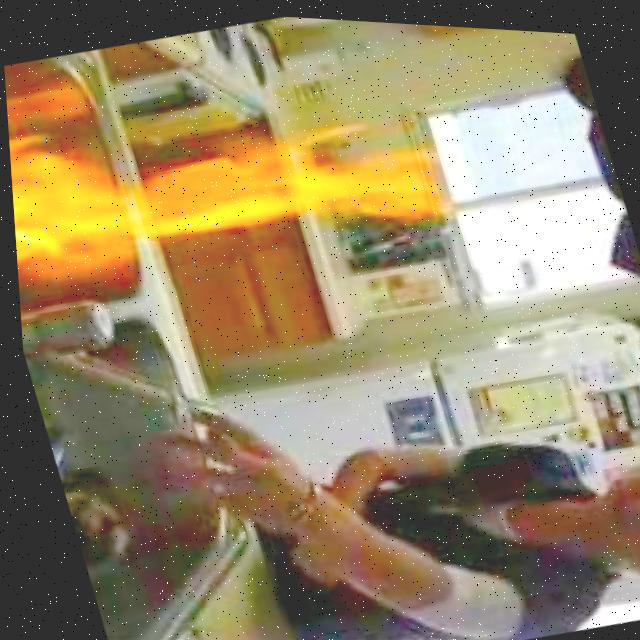Fire: (1, 28, 435, 315)
